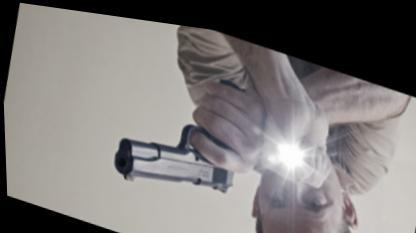pistol: (104, 40, 262, 216)
